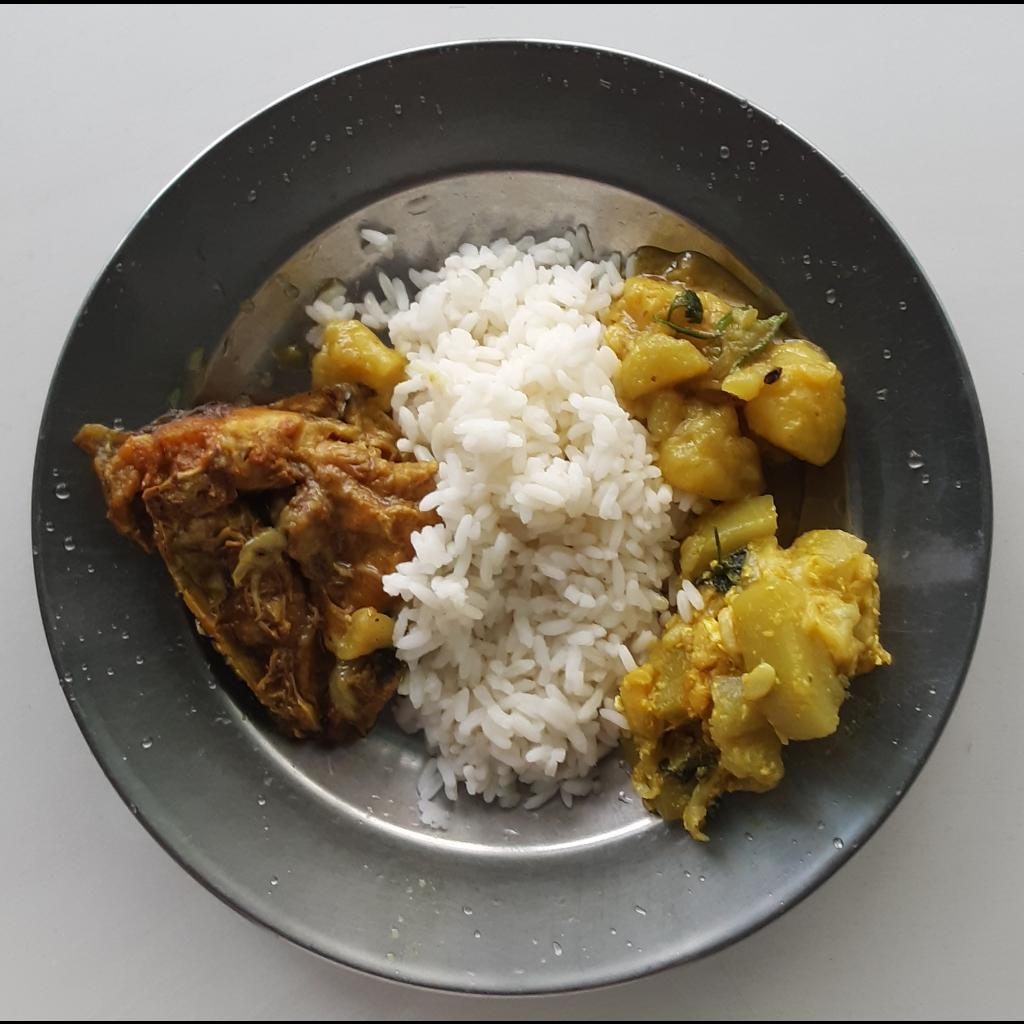fish: (72, 378, 438, 751)
lau: (618, 495, 896, 842)
potato: (601, 240, 852, 499), (308, 319, 403, 385)
rice: (305, 219, 694, 827)
